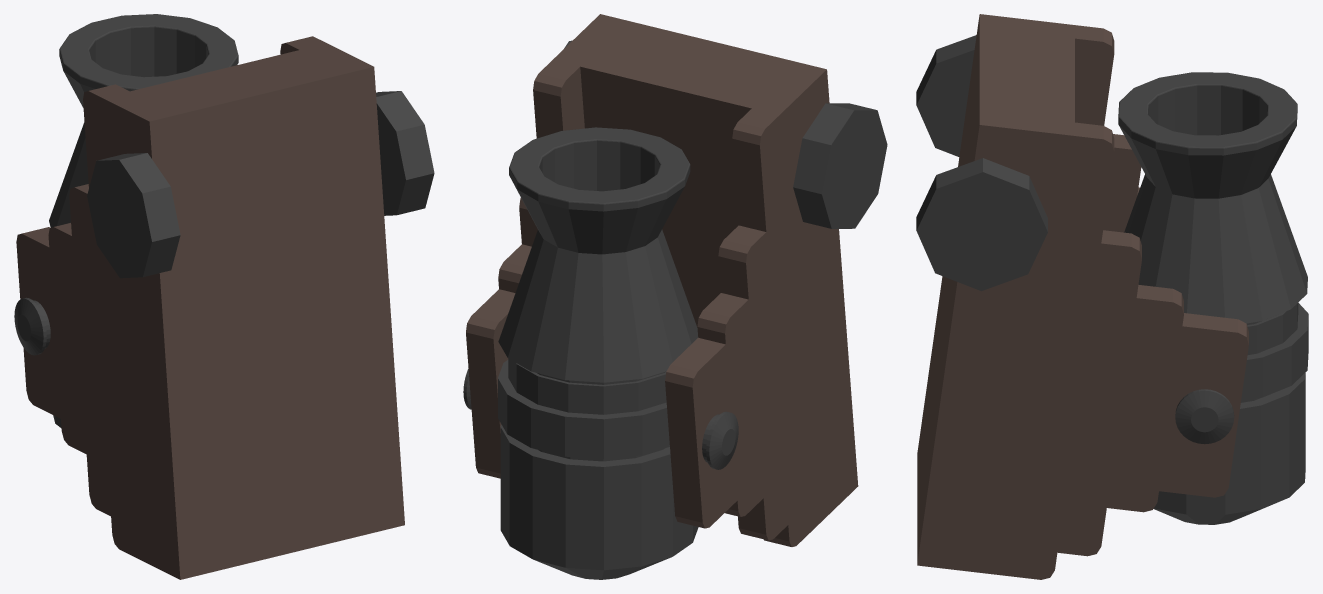
File: Cannon.fbx
3 views of the same model, side by side, from view 1: azimuth 30°, elevation 25°; view 2: azimuth 150°, elevation 25°; view 3: azimuth 270°, elevation 25° (orthographic).
Visible parts, largest first — view 1: Cannon; view 2: Cannon; view 3: Cannon.
Part boxes in pixels (left/top/right/bottom): Cannon: left=14, top=14, right=434, bottom=579; Cannon: left=463, top=14, right=887, bottom=579; Cannon: left=916, top=14, right=1308, bottom=579.
Bounding box in the file's own units: 269 × 410 × 320.
